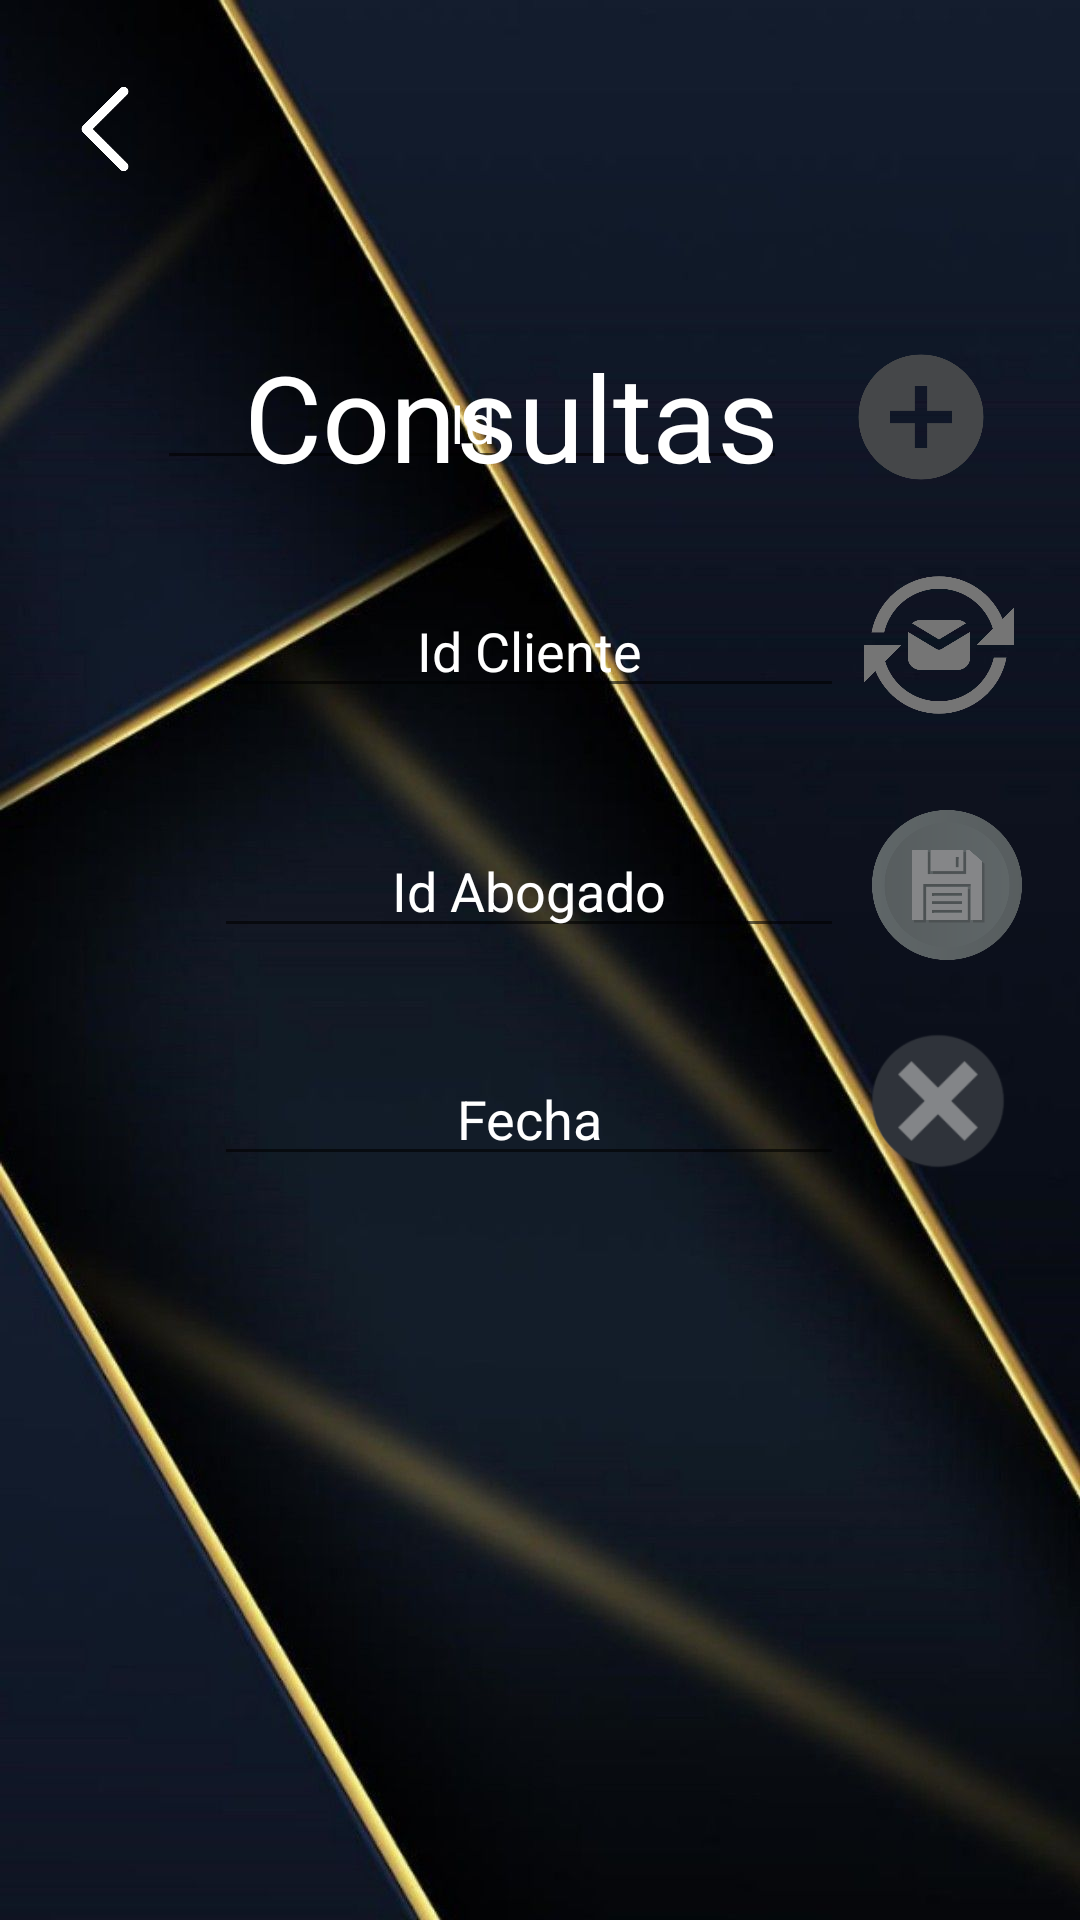

Icons on this 1080w x 1920h Android screen, each with its box as {"x1": x1, "y1": y1, "x2": x2, "y2": y2}:
actualizar: {"x1": 864, "y1": 576, "x2": 1014, "y2": 714}
agregar: {"x1": 859, "y1": 354, "x2": 984, "y2": 480}
eliminar: {"x1": 863, "y1": 1036, "x2": 1003, "y2": 1176}
guardar: {"x1": 872, "y1": 810, "x2": 1022, "y2": 960}
